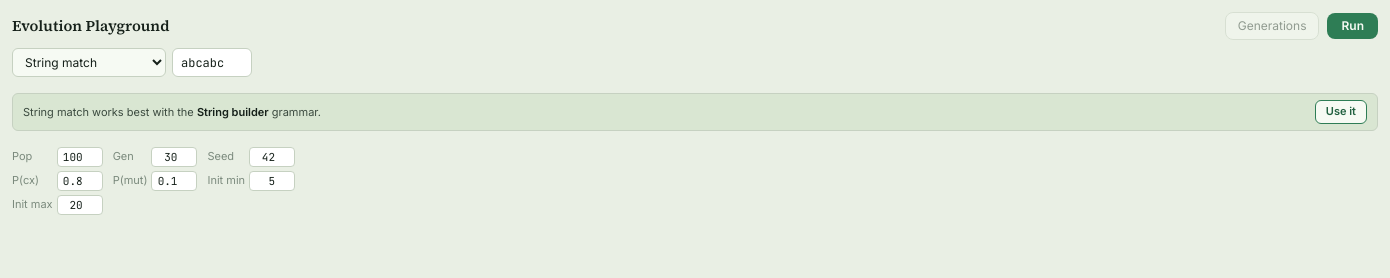
Scenario: EvolutionPanel › warns about heavy runs and clamps the population
This screenshot has width=1390, height=278.
Expected: the text "Large run" is not shown
Replace the text in the number field labelled "Pop" with "1000" at (80, 157), box [57,147,103,167]
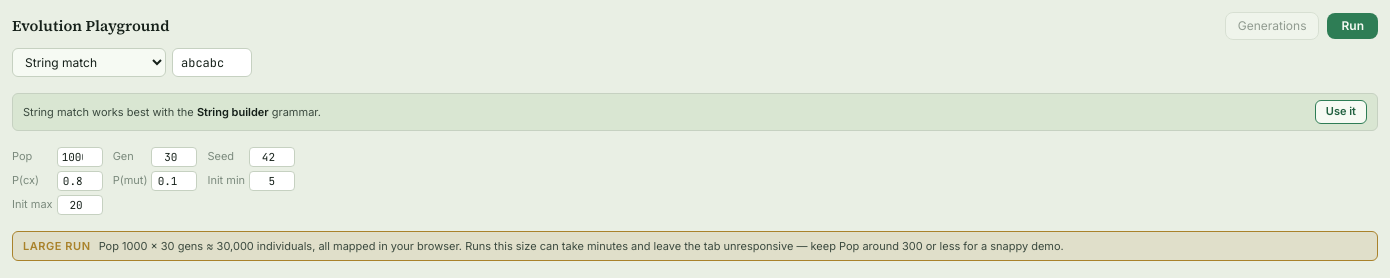
Expected: the text "Large run" is shown, [23,238,91,254]
Note: Absurd values are clamped instead of being queued.
Replace the text in the number field labelled "Pop" with "99999" at (80, 157), box [57,147,103,167]
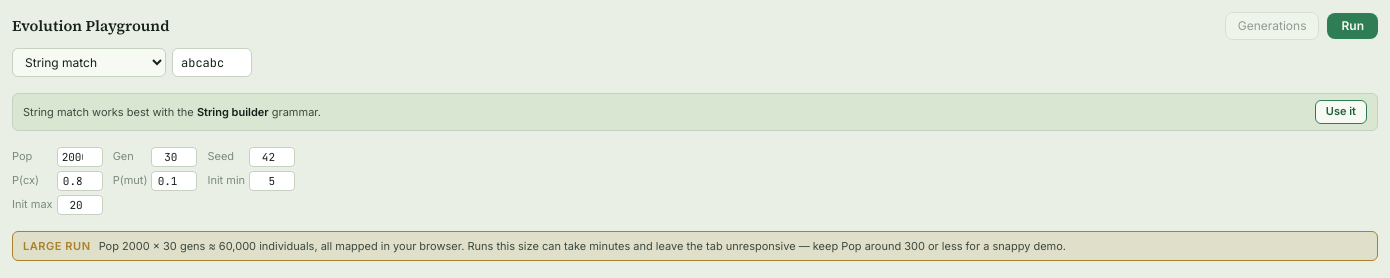
Expected: the number field labelled "Pop" holds "2000", [57,147,103,167]
